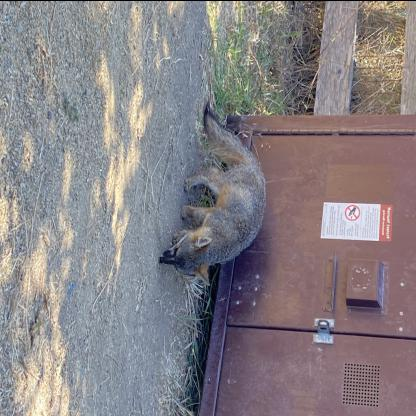zorro: (152, 81, 272, 291)
